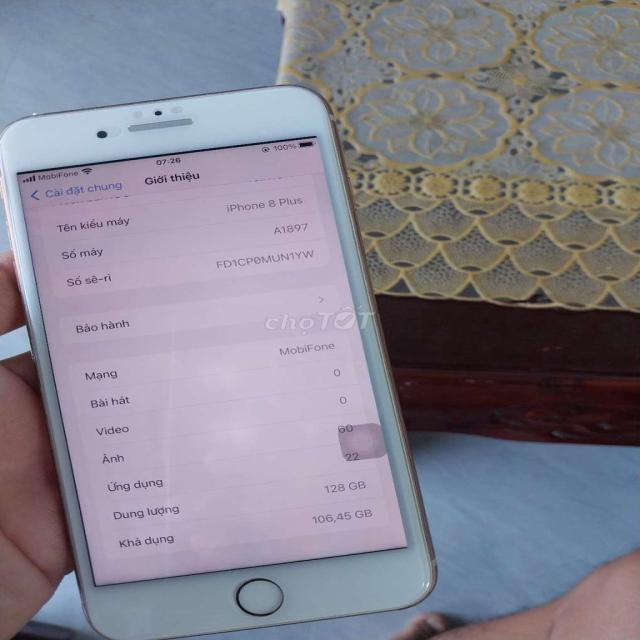gen_7_8: (0, 83, 447, 640)
